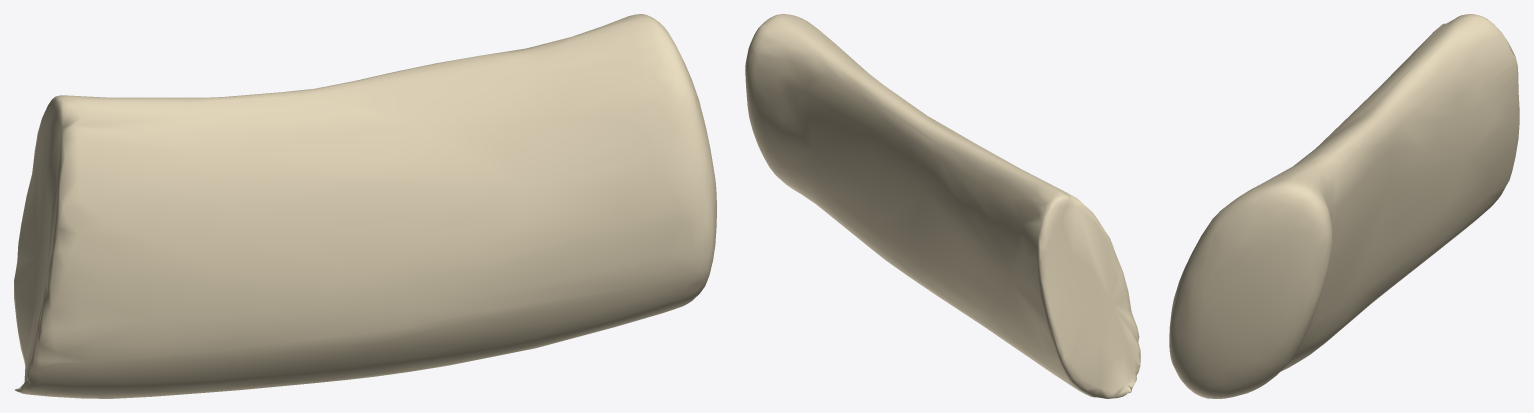
File: esqueleto-costal-cartilage-of-third-rib-r.glb
3 views of the same model, side by side, from view 1: azimuth 30°, elevation 25°; view 2: azimuth 150°, elevation 25°; view 3: azimuth 270°, elevation 25° (orthographic). The views are drawn at different scales.
Visible parts, largest first — view 1: Costal cartilage of third rib.r; view 2: Costal cartilage of third rib.r; view 3: Costal cartilage of third rib.r.
Part boxes in pixels (box(x1,y1,x2,y2)): Costal cartilage of third rib.r: box(14, 14, 716, 398); Costal cartilage of third rib.r: box(745, 14, 1140, 398); Costal cartilage of third rib.r: box(1169, 14, 1519, 398).
Bounding box in the file's own units: 0.0373 × 0.0194 × 0.0223.
